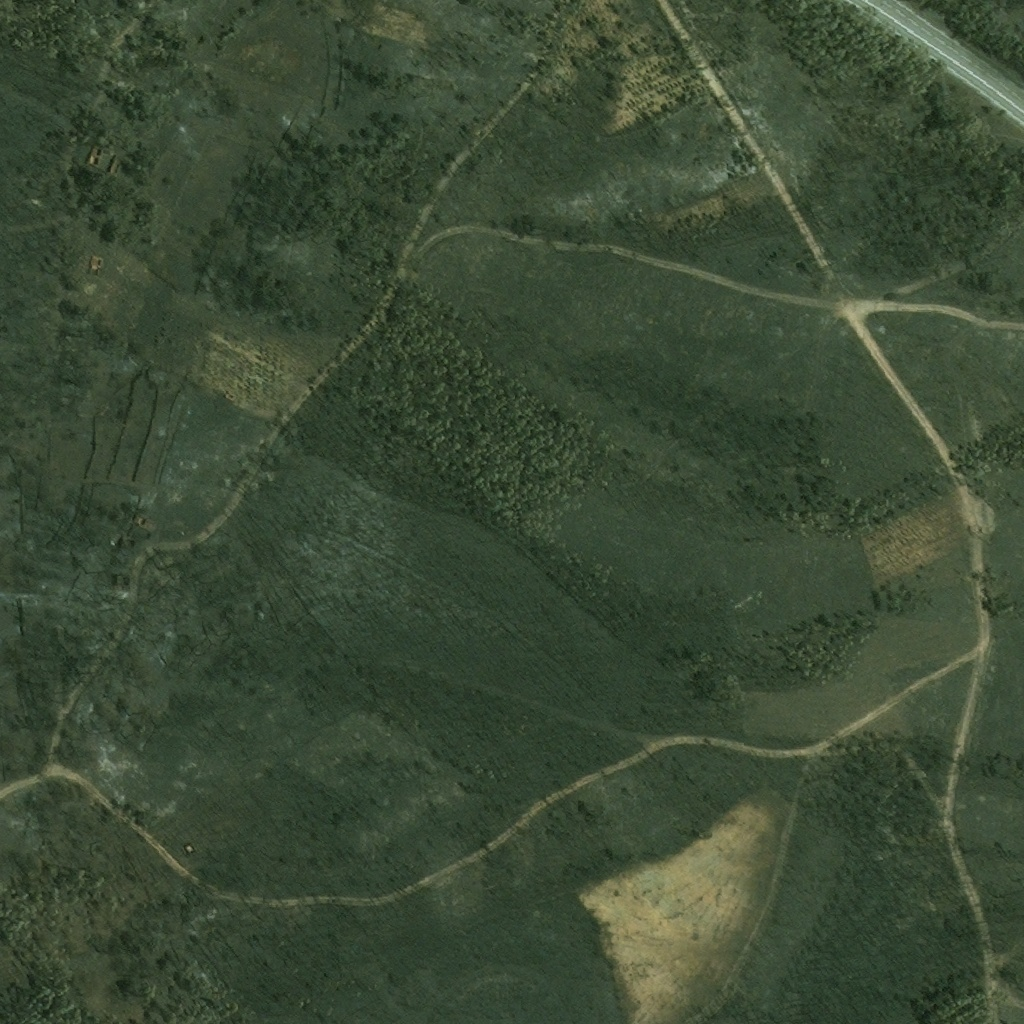3 destroyed: (92, 145, 116, 172)
